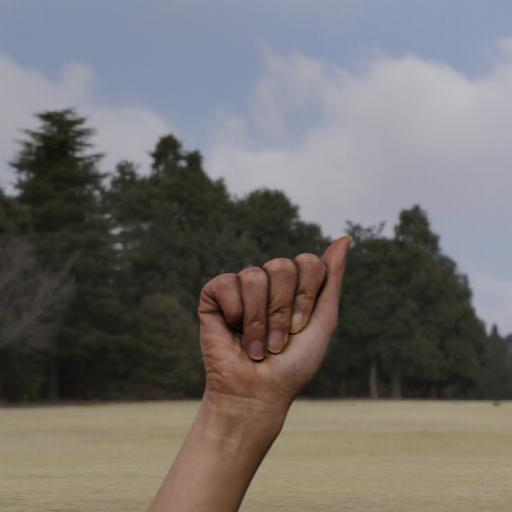A: (182, 228, 382, 409)
